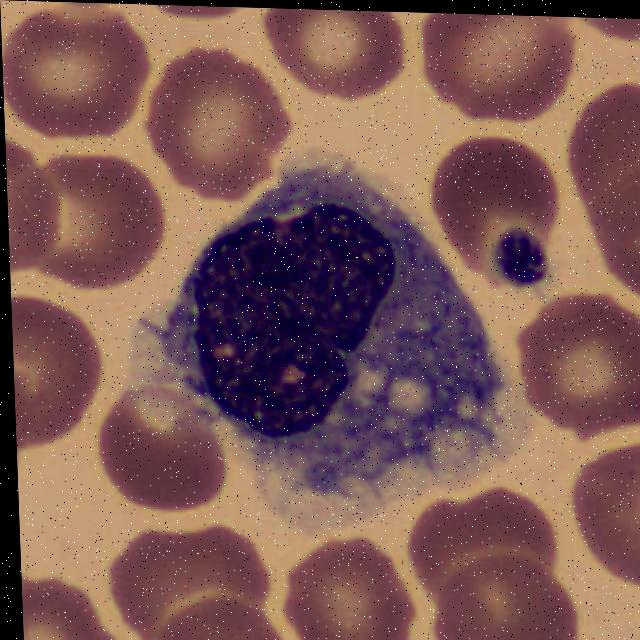monocyte: (154, 150, 501, 492)
platelets: (478, 220, 571, 299)
rbc: (143, 44, 307, 210), (4, 0, 163, 145), (22, 146, 172, 297), (415, 12, 576, 131), (511, 289, 640, 437), (112, 522, 270, 637), (436, 133, 570, 266), (410, 484, 568, 593), (102, 386, 231, 512), (279, 525, 417, 640), (11, 293, 108, 450), (254, 8, 411, 103), (417, 552, 582, 640), (562, 436, 640, 585), (565, 68, 640, 216), (5, 126, 67, 284), (590, 150, 640, 299), (149, 594, 281, 640), (21, 572, 106, 640)
